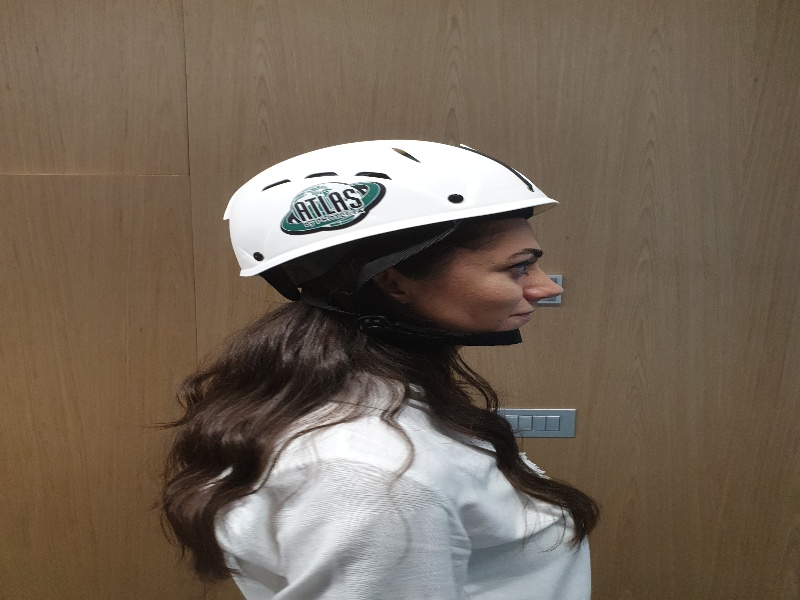Baret: (225, 140, 564, 254)
